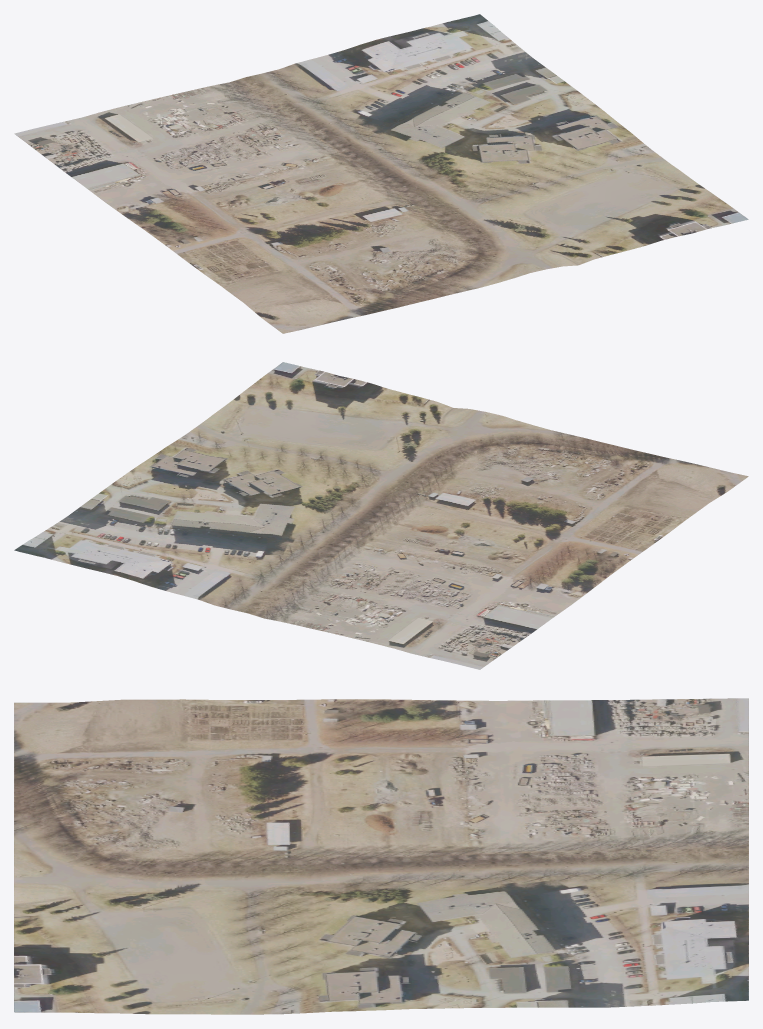
File: CM_Terrain_24486978_6818975.fbx
3 renders of one model, top to bottom at view 1: azimuth 30°, elevation 25°; view 2: azimuth 150°, elevation 25°; view 3: azimuth 270°, elevation 25°, orthographic. The views are drawn at different scales.
Parts seen in each view (by area): view 1: CM_Terrain_24486978_6818975_LOD0; view 2: CM_Terrain_24486978_6818975_LOD0; view 3: CM_Terrain_24486978_6818975_LOD0.
Boxes of the visible parts, x1,y1,x2,y2 form: CM_Terrain_24486978_6818975_LOD0: [14, 14, 748, 333]; CM_Terrain_24486978_6818975_LOD0: [14, 362, 748, 669]; CM_Terrain_24486978_6818975_LOD0: [14, 698, 748, 1014].
Size of what is drawn, in the model's own units: 205 by 5.4 by 205.
